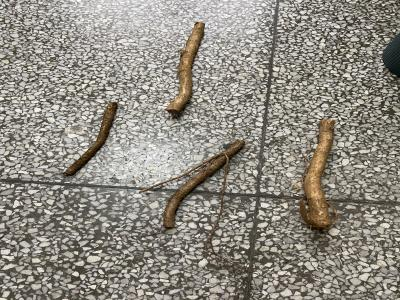Root: (138, 140, 245, 249), (300, 120, 337, 231), (62, 101, 117, 175), (166, 22, 205, 114)
